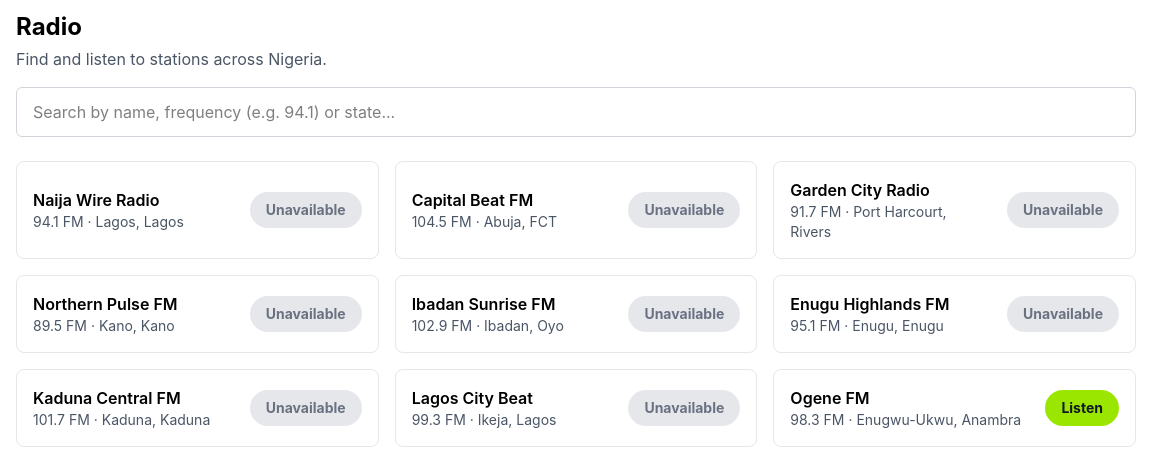
Test: RadioPage › says when nothing matches
Type "zzzz" into the search field at (576, 112), box [16,87,1136,137]
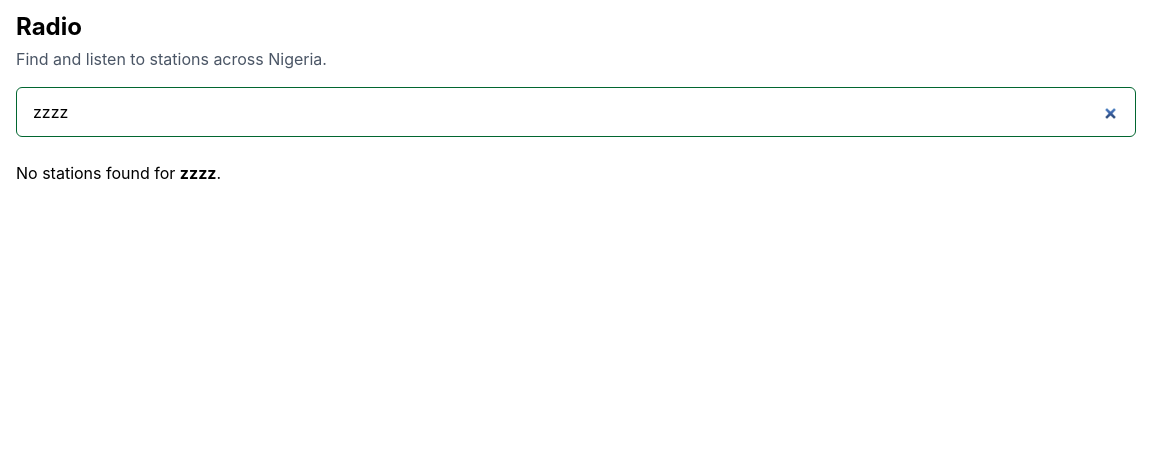
Expected: the text "No stations found for zzzz." is shown, [16,163,221,183]
